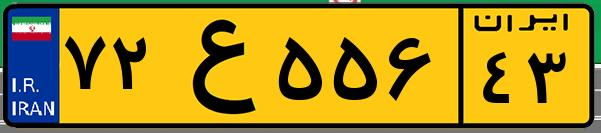2: (110, 28, 158, 98)
3: (525, 38, 570, 115)
4: (475, 38, 525, 113)
5: (270, 28, 330, 110), (330, 28, 385, 110)
6: (385, 28, 445, 110)
7: (57, 26, 110, 100)
ع: (158, 12, 270, 120)
